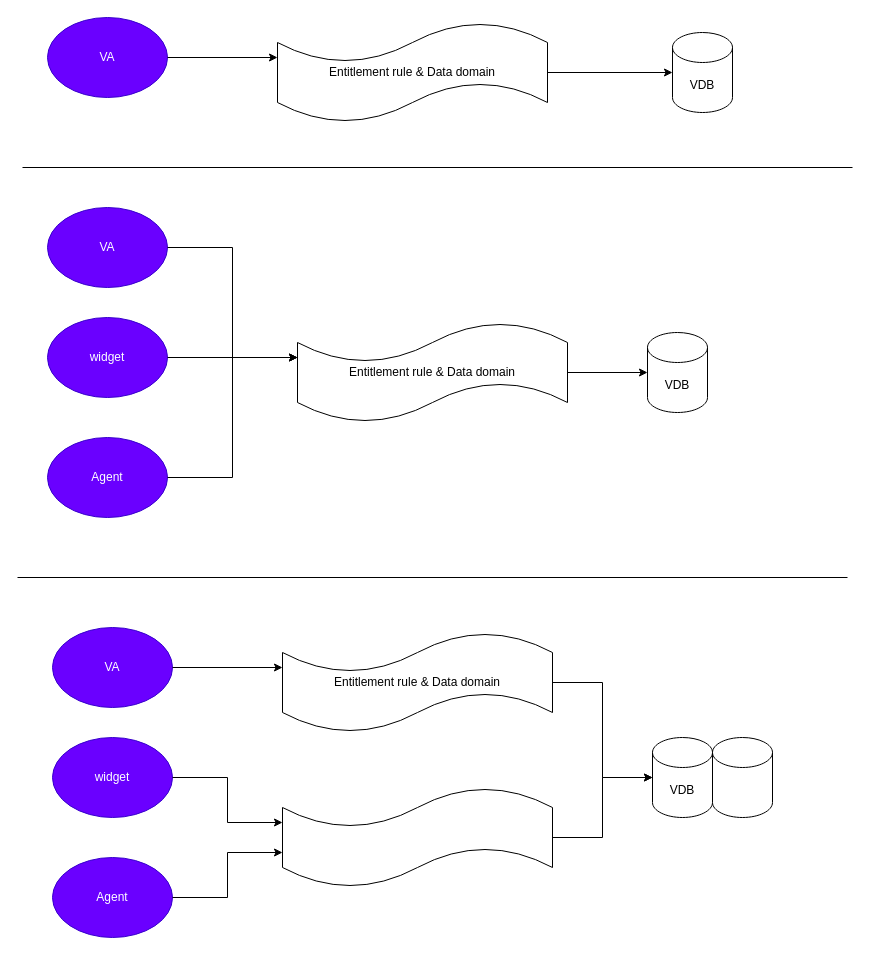
The diagram is 871 pixels wide and 955 high, and some of its shapes have lost their labels. Here are the shapes that lost their labels. From the top down, the centre of each, then its label:
[742,777]: IDOL
[417,837]: Data domain
